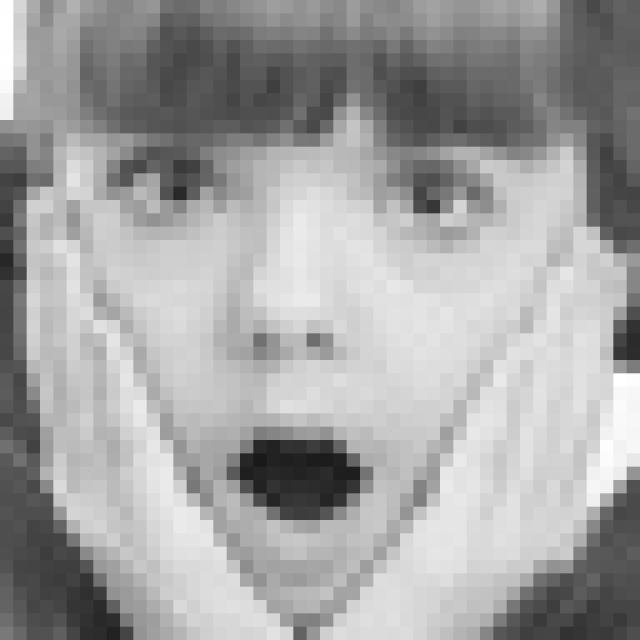surprise: (106, 125, 537, 558)
